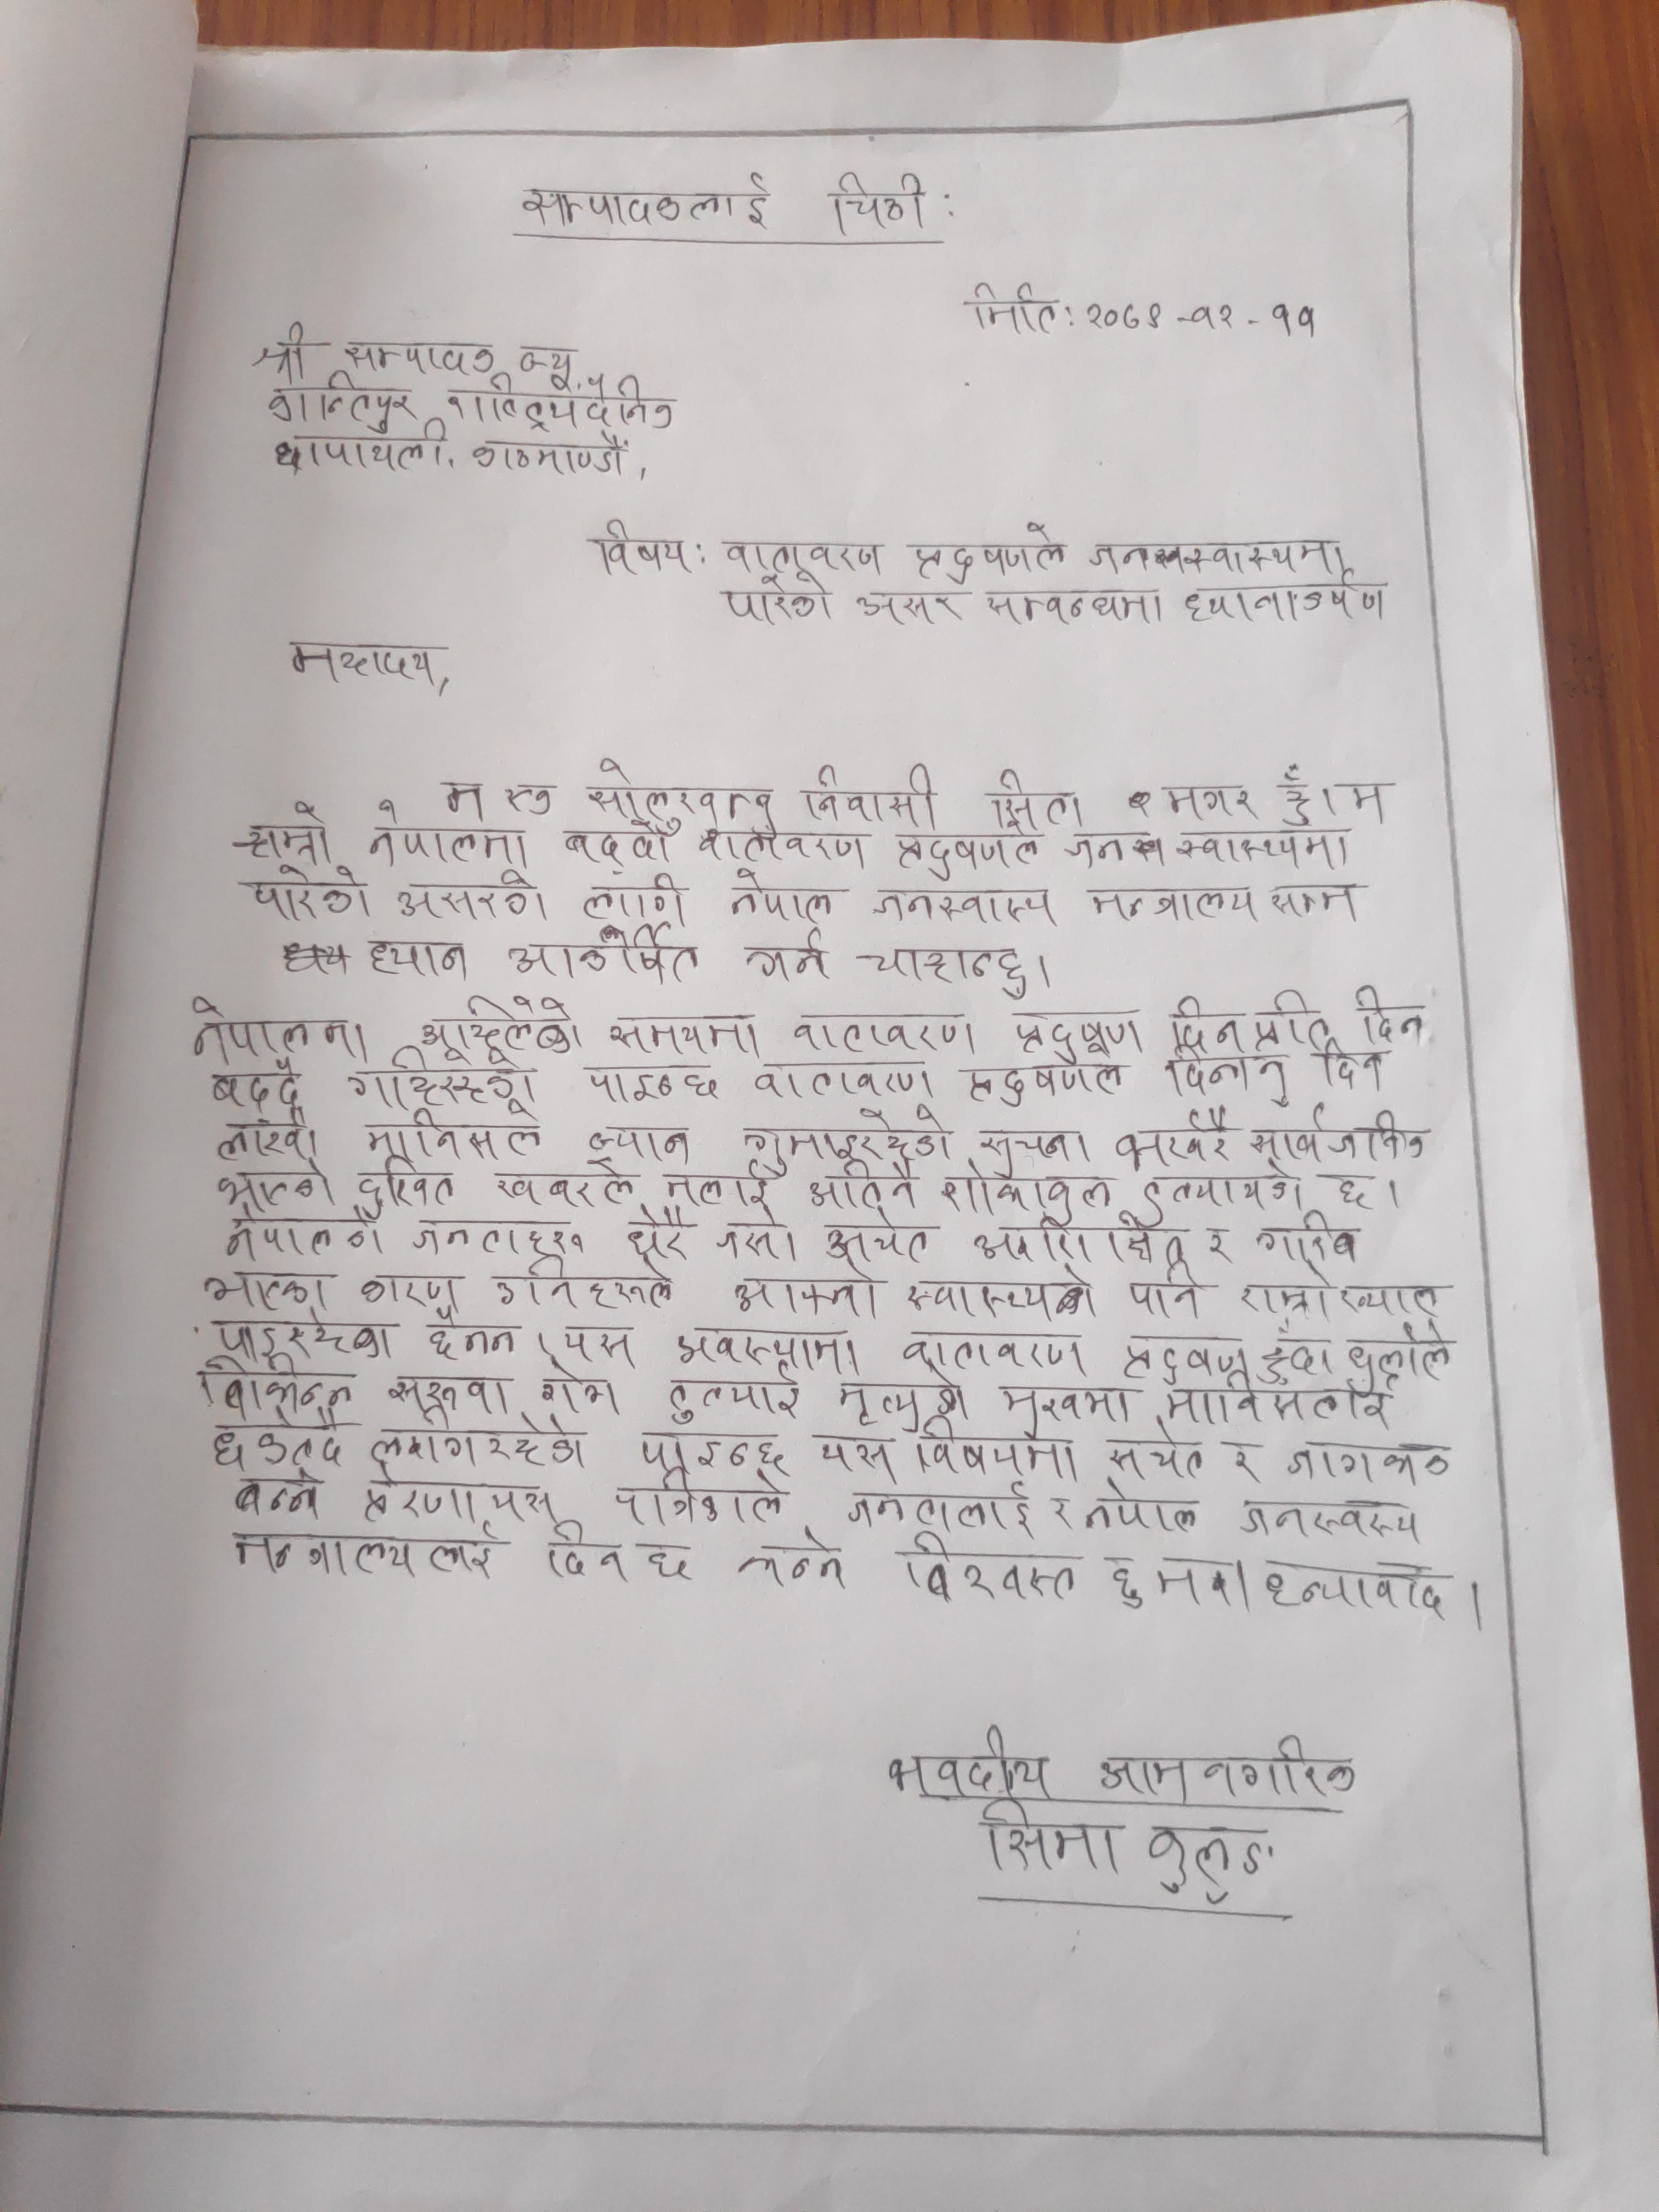text: (1096, 1731, 1363, 1797), (514, 167, 777, 230), (225, 1524, 502, 1581), (366, 1409, 591, 1470), (586, 759, 777, 829), (739, 1103, 957, 1162), (1263, 1555, 1455, 1622), (443, 376, 674, 430), (897, 1534, 1080, 1602), (974, 1797, 1122, 1881), (185, 996, 368, 1062), (502, 921, 704, 981), (1141, 1820, 1283, 1904), (1161, 1381, 1398, 1430), (885, 1724, 1053, 1792), (1086, 533, 1354, 575), (359, 1467, 554, 1524), (1134, 1160, 1302, 1226), (1236, 1264, 1448, 1315), (840, 1480, 1037, 1534), (904, 519, 1068, 583), (903, 1264, 1098, 1318), (415, 991, 587, 1052), (911, 1420, 1084, 1480), (967, 1217, 1190, 1264), (1178, 580, 1391, 629), (1244, 1106, 1429, 1162), (491, 1258, 676, 1313), (342, 1050, 537, 1103), (195, 1352, 357, 1414), (882, 822, 1040, 885), (1236, 1491, 1424, 1543), (861, 941, 1032, 998), (221, 1205, 392, 1263), (615, 1470, 786, 1527), (798, 761, 941, 829), (1166, 991, 1333, 1049), (934, 1163, 1117, 1216), (1171, 820, 1352, 873), (671, 1325, 863, 1374), (209, 1310, 397, 1359), (1084, 300, 1323, 338), (789, 1008, 981, 1055), (1286, 1435, 1452, 1489), (730, 1264, 878, 1324), (362, 1106, 540, 1155), (274, 423, 450, 472), (962, 1057, 1129, 1108), (491, 1157, 641, 1212), (662, 1371, 807, 1428), (979, 583, 1169, 627), (267, 378, 415, 434), (397, 867, 549, 921), (993, 1379, 1140, 1435), (1164, 1045, 1297, 1106), (282, 636, 436, 688), (204, 1409, 343, 1467), (404, 1216, 587, 1259), (897, 1329, 1087, 1371), (1112, 1109, 1237, 1172), (467, 430, 627, 479), (1004, 1005, 1140, 1062), (836, 1369, 967, 1428), (366, 824, 528, 871), (695, 826, 870, 869), (1084, 883, 1256, 927), (868, 887, 1054, 927), (244, 866, 373, 921), (631, 1425, 786, 1470), (830, 167, 932, 235), (737, 1529, 847, 1592), (235, 803, 338, 867), (727, 867, 845, 923), (753, 1061, 941, 1096), (1345, 1322, 1455, 1381), (342, 336, 497, 378), (1117, 1332, 1249, 1381), (727, 535, 887, 575), (606, 1012, 763, 1052), (1080, 1484, 1201, 1536), (819, 1211, 934, 1264), (558, 820, 685, 869), (721, 575, 840, 627), (354, 1157, 458, 1216), (591, 516, 692, 577), (579, 869, 694, 921), (584, 1062, 725, 1104), (197, 1264, 331, 1308), (211, 1109, 322, 1162), (1155, 1555, 1253, 1615), (802, 1162, 924, 1209), (545, 1519, 631, 1585), (974, 1123, 1093, 1170), (741, 925, 835, 982), (230, 1465, 324, 1522), (420, 1310, 523, 1362), (216, 1162, 338, 1205), (969, 280, 1061, 338), (1105, 1428, 1206, 1480), (988, 770, 1082, 826), (1260, 1320, 1338, 1386), (1349, 986, 1436, 1045), (709, 1209, 802, 1264), (1253, 1214, 1359, 1261), (660, 1162, 772, 1205), (209, 1061, 307, 1109), (366, 934, 471, 979), (385, 1372, 514, 1409), (1126, 1261, 1204, 1320), (854, 590, 967, 629), (1267, 876, 1361, 921), (537, 1371, 627, 1418), (356, 1270, 458, 1310), (586, 1123, 697, 1160), (817, 1430, 897, 1480), (1312, 1049, 1396, 1096), (249, 319, 310, 383), (558, 1320, 641, 1366), (624, 1207, 701, 1256), (1164, 782, 1258, 820), (1101, 1548, 1148, 1616), (432, 772, 493, 824), (638, 1541, 704, 1587), (516, 343, 575, 392), (1340, 780, 1403, 820), (1061, 829, 1129, 866), (1276, 765, 1314, 827), (502, 780, 559, 820), (1222, 1440, 1269, 1484), (1331, 1170, 1378, 1209), (1201, 1223, 1237, 1264), (1047, 1496, 1073, 1529)
